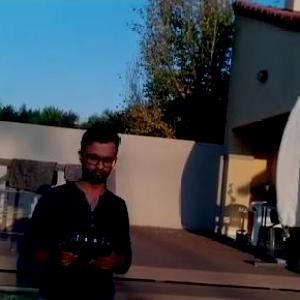follow: (13, 115, 136, 299)
